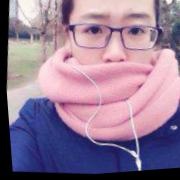WRONG: (62, 1, 162, 106)
